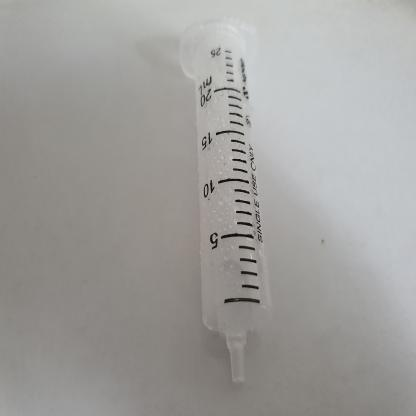wet: (162, 19, 301, 392)
